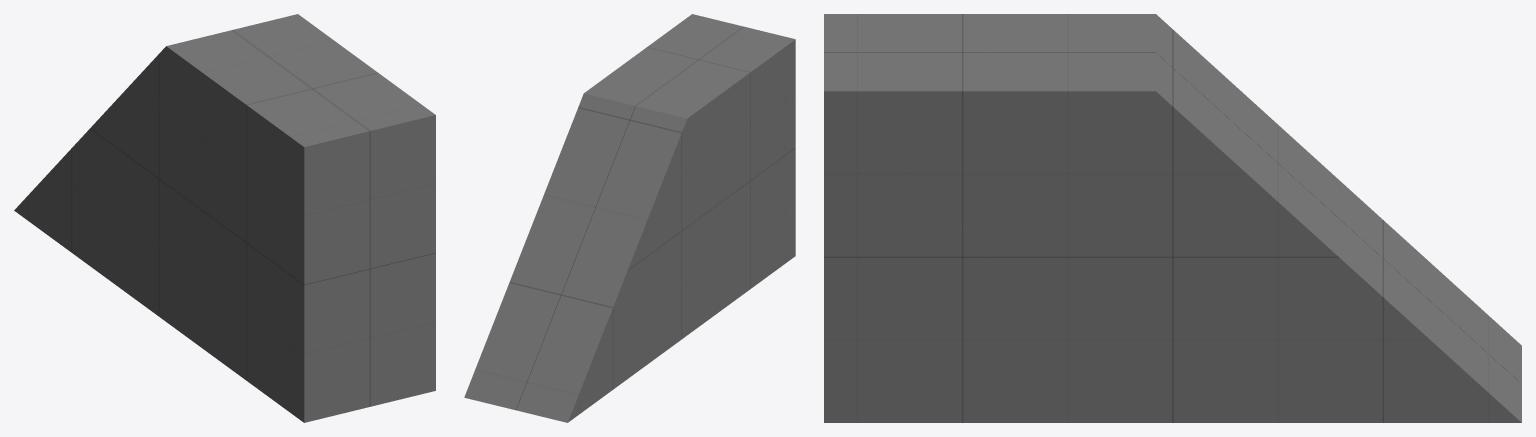
File: RampWallLong.fbx
3 views of the same model, side by side, from view 1: azimuth 30°, elevation 25°; view 2: azimuth 150°, elevation 25°; view 3: azimuth 270°, elevation 25° (orthographic). The views are drawn at different scales.
Visible parts, largest first — view 1: RampWallLong; view 2: RampWallLong; view 3: RampWallLong.
Part boxes in pixels (bbox=[...]): RampWallLong: bbox=[14, 14, 435, 422]; RampWallLong: bbox=[464, 14, 795, 422]; RampWallLong: bbox=[824, 14, 1521, 422].
Bounding box in the file's own units: 2.46 × 4.93 × 9.39.
